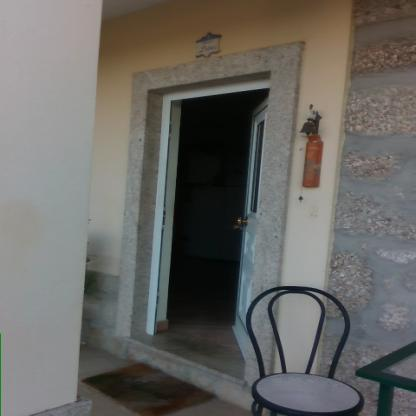semi: (132, 71, 286, 346)
